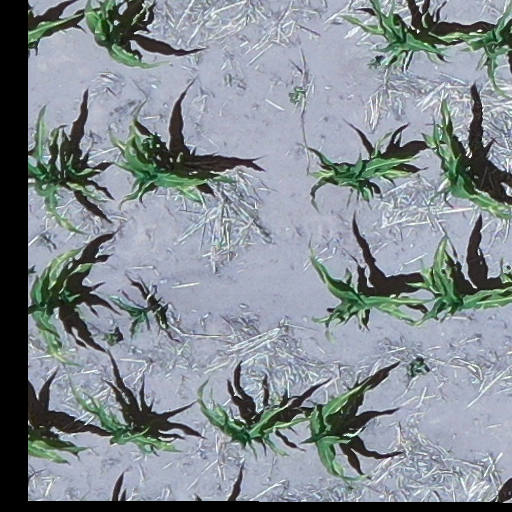planta: (105, 106, 247, 209), (308, 243, 431, 343), (28, 103, 111, 234), (301, 130, 421, 211), (69, 381, 187, 457), (197, 381, 311, 457), (28, 248, 94, 365), (300, 378, 372, 482), (108, 296, 165, 338)
